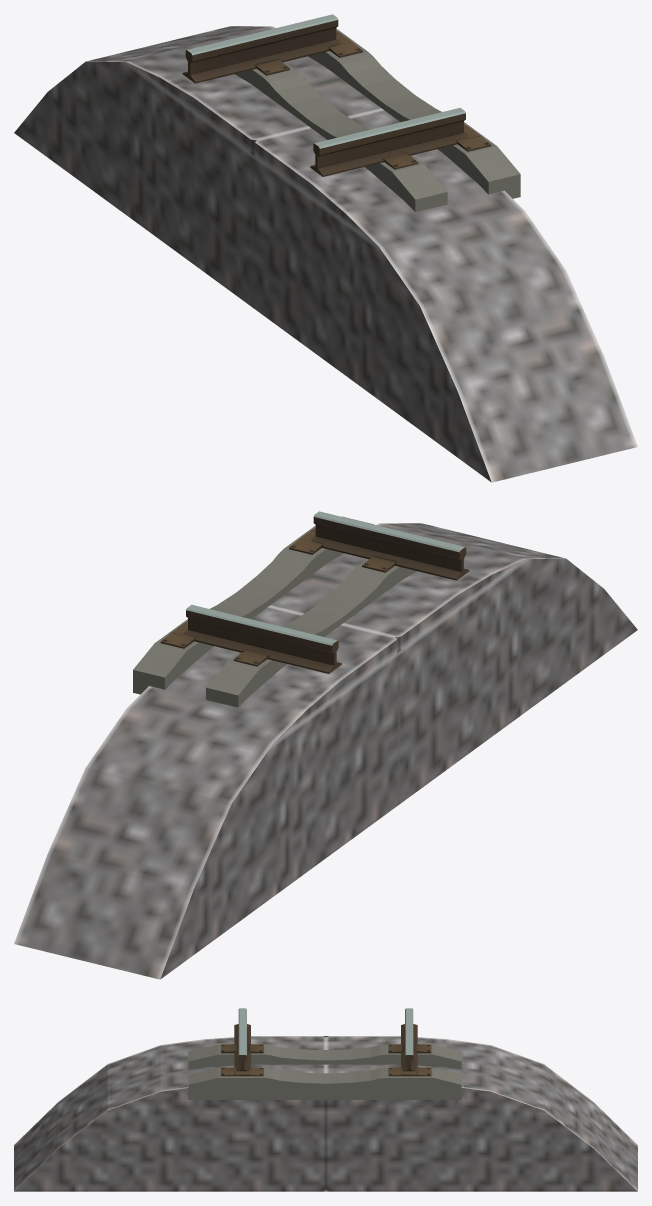
File: spsf_tracks_concrete.obj
3 renders of one model, top to bottom at view 1: azimuth 30°, elevation 25°; view 2: azimuth 150°, elevation 25°; view 3: azimuth 270°, elevation 25°, orthographic. The views are drawn at different scales.
Parts seen in each view (by area): view 1: RAIL_BASE.001_Cube.009, RAIL_BASE_Cube.001, RAIL_BASE.006_Cube_Cube.004, RAIL_RIGHT_Cube.010, RAIL_LEFT_Cube.002, RAIL_BASE.005_Cube.003; view 2: RAIL_BASE.001_Cube.009, RAIL_BASE_Cube.001, RAIL_BASE.006_Cube_Cube.004, RAIL_LEFT_Cube.002, RAIL_RIGHT_Cube.010, RAIL_BASE.005_Cube.003; view 3: RAIL_BASE.001_Cube.009, RAIL_BASE.006_Cube_Cube.004, RAIL_BASE_Cube.001, RAIL_BASE.005_Cube.003, RAIL_LEFT_Cube.002, RAIL_RIGHT_Cube.010.
Part boxes in pixels (bbox=[...]): RAIL_BASE.001_Cube.009: bbox=[14, 26, 637, 482]; RAIL_BASE_Cube.001: bbox=[126, 26, 525, 247]; RAIL_BASE.006_Cube_Cube.004: bbox=[235, 28, 520, 212]; RAIL_RIGHT_Cube.010: bbox=[182, 14, 339, 83]; RAIL_LEFT_Cube.002: bbox=[310, 107, 466, 176]; RAIL_BASE.005_Cube.003: bbox=[255, 31, 491, 169]; RAIL_BASE.001_Cube.009: bbox=[14, 523, 637, 979]; RAIL_BASE_Cube.001: bbox=[126, 523, 525, 744]; RAIL_BASE.006_Cube_Cube.004: bbox=[133, 516, 447, 707]; RAIL_LEFT_Cube.002: bbox=[312, 511, 469, 580]; RAIL_RIGHT_Cube.010: bbox=[185, 604, 341, 673]; RAIL_BASE.005_Cube.003: bbox=[160, 528, 396, 666]; RAIL_BASE.001_Cube.009: bbox=[14, 1045, 637, 1191]; RAIL_BASE.006_Cube_Cube.004: bbox=[188, 1044, 461, 1099]; RAIL_BASE_Cube.001: bbox=[160, 1036, 491, 1091]; RAIL_BASE.005_Cube.003: bbox=[220, 1044, 431, 1076]; RAIL_LEFT_Cube.002: bbox=[234, 1008, 250, 1070]; RAIL_RIGHT_Cube.010: bbox=[401, 1008, 417, 1070].
Size of the model in its own units: 1.11 by 1.37 by 5.66.
2 materials, 2 textured.
